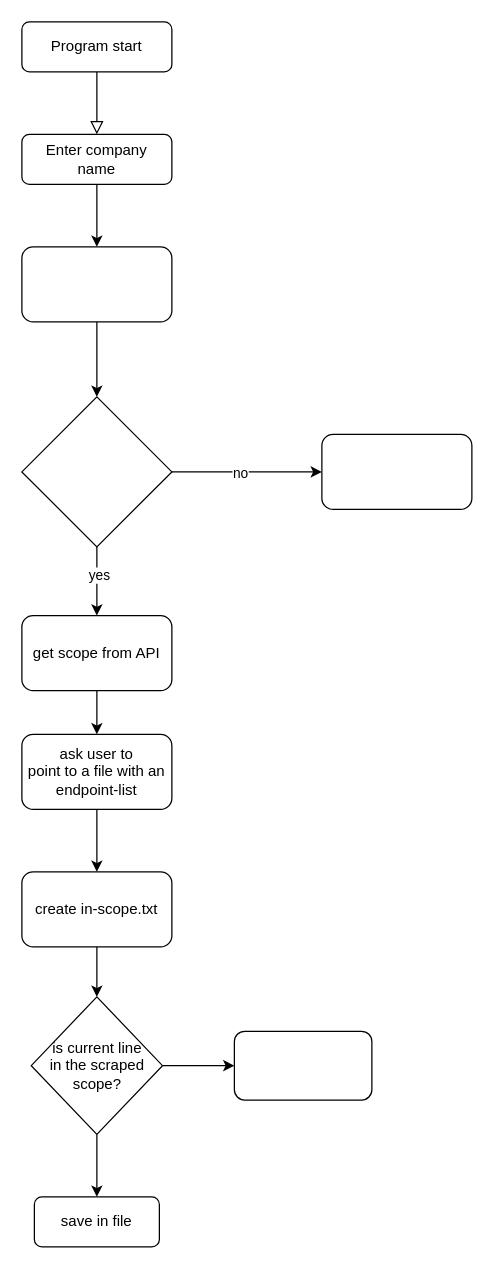
The diagram is 494 pixels wide and 1269 high, and some of its shapes have lost their labels. Here are the shapes that lost their labels. From the top down, the centre of each, then its label:
At (x=96, y=284): "Lookup on bug bounty program list".
At (x=96, y=471): "Does the program have a bug bounty?".
At (x=302, y=1065): "don't include in output file".
